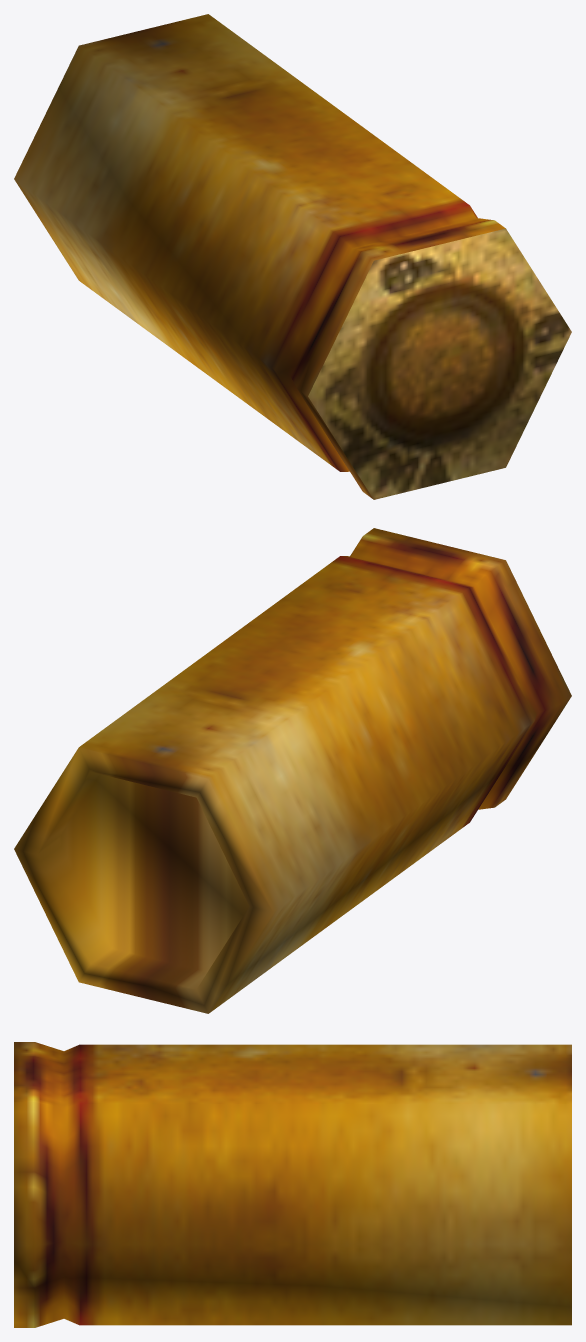
The model's file is PistolCasing.glb.
3 views of the same model, one above another, from view 1: azimuth 30°, elevation 25°; view 2: azimuth 150°, elevation 25°; view 3: azimuth 270°, elevation 25° (orthographic). The views are drawn at different scales.
Parts seen in each view (by area): view 1: Pistol_caliber_1; view 2: Pistol_caliber_1; view 3: Pistol_caliber_1.
Boxes of the visible parts, left/top/right/bottom form: Pistol_caliber_1: left=14, top=14, right=571, bottom=499; Pistol_caliber_1: left=14, top=528, right=571, bottom=1013; Pistol_caliber_1: left=14, top=1042, right=571, bottom=1327.
Bounding box in the file's own units: 0.5466 × 0.4734 × 1.06.
Materials: 1 (1 with a texture image).
